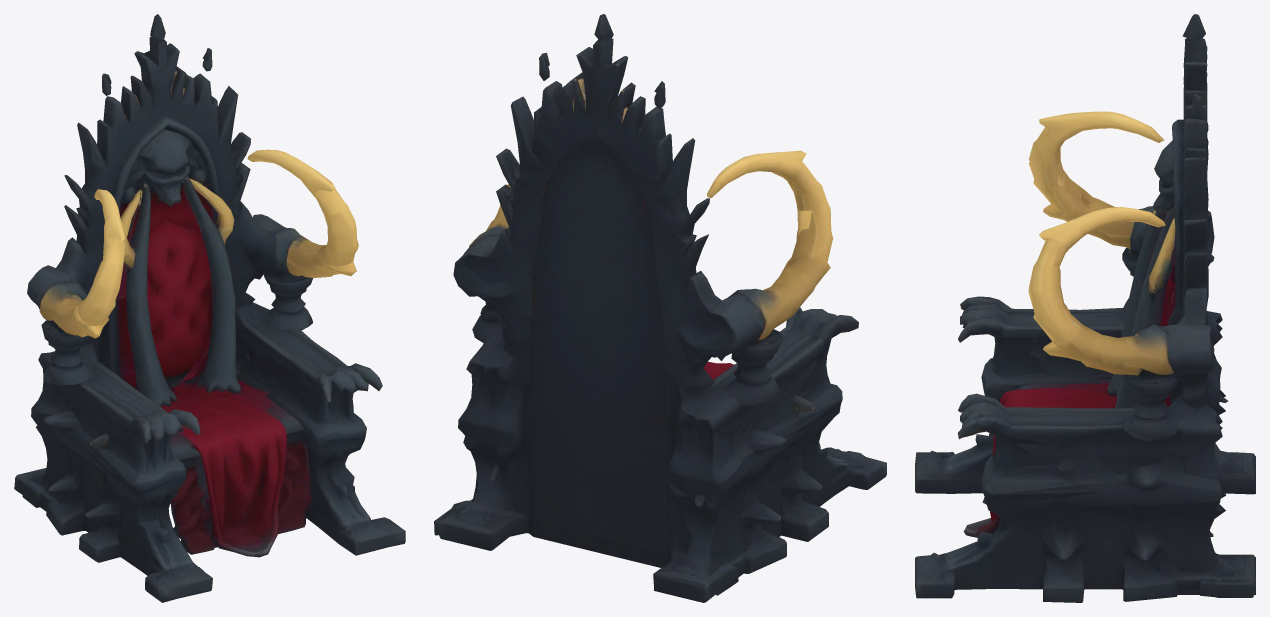
The model's file is oni-throne.opt.glb.
3 renders of one model, left to right at view 1: azimuth 30°, elevation 25°; view 2: azimuth 150°, elevation 25°; view 3: azimuth 270°, elevation 25°, orthographic. The views are drawn at different scales.
Size of the model in its own units: 1.19 by 1.9 by 1.13.
Materials: 1 (1 with a texture image).
